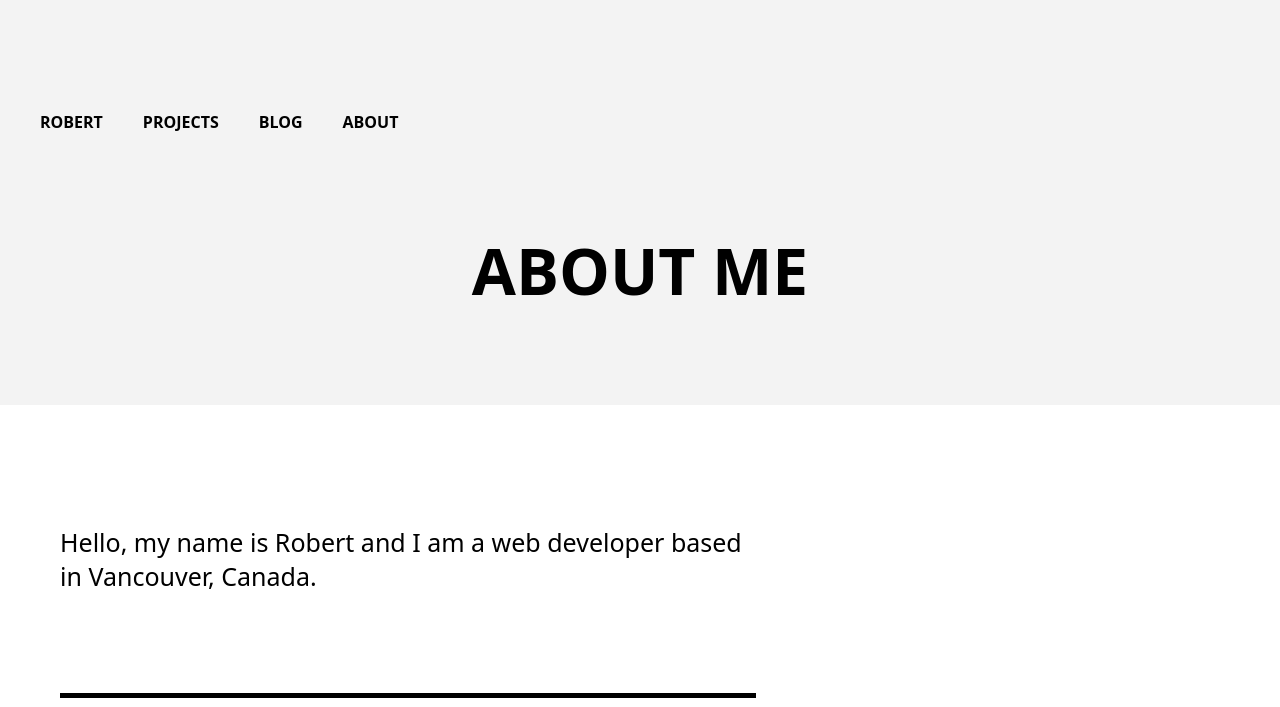
Test: Router › skills page should load on click
The width and height of the screenshot is (1280, 707).
Step 1. Click the link "Robert" → (71, 123), box [40,111,103,135]
(page scrolled)
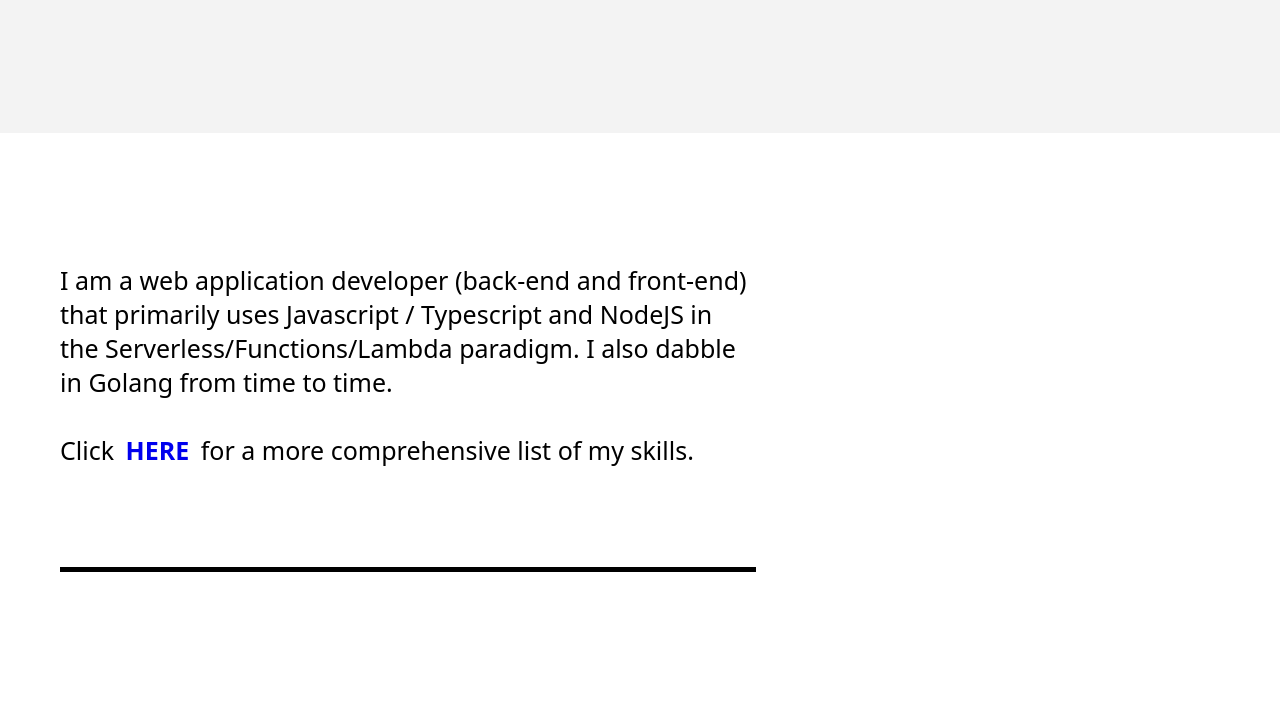
Expected: the text "I am a web application developer (back-end and front-end) that primarily uses Javascript / Typescript and NodeJS in the " shows "I am a web application developer (back-end and front-end) that primarily uses Javascript / Typescript and NodeJS in the Serverless/Functions/Lambda paradigm.", [60,263,746,399]
Step 2. Click the link "here" → (157, 450), box [121,433,194,467]
(page scrolled)
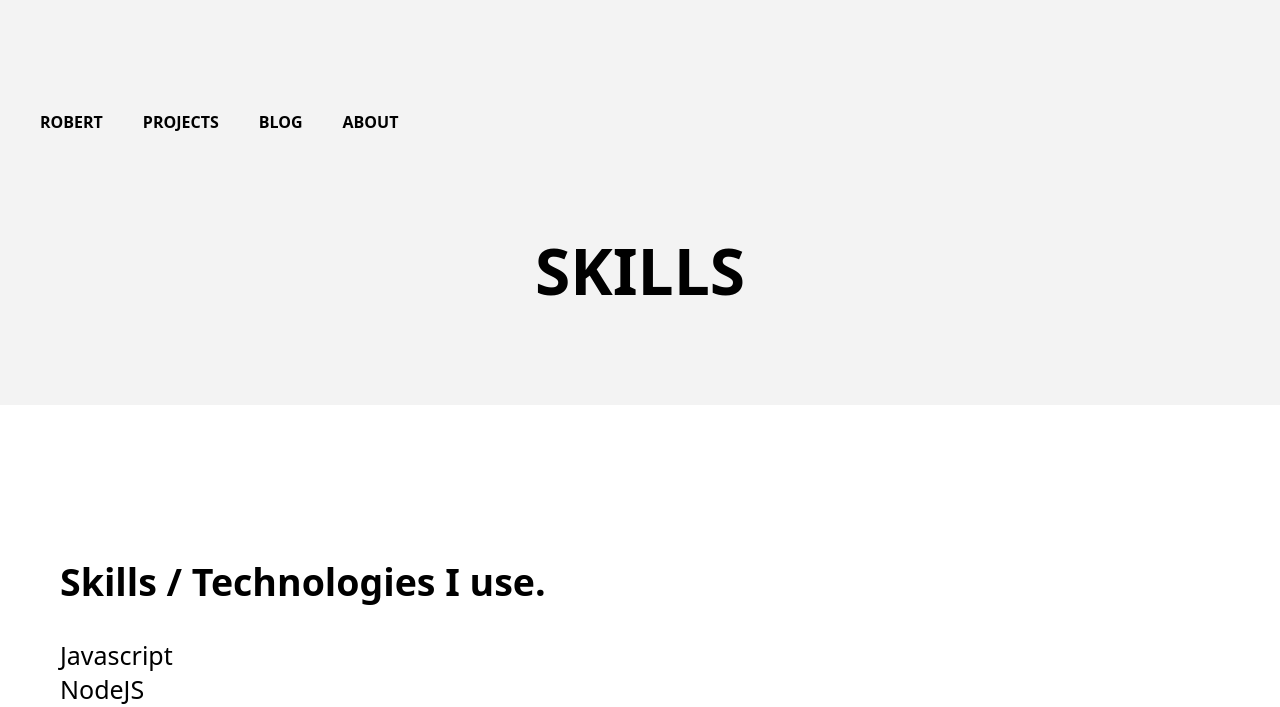
Expected: the text "Hello, my name is Robert and I am a web developer based in Vancouver, Canada." is not shown
Expected: the heading "Skills / Technologies I use." is shown, [60,556,546,607]
